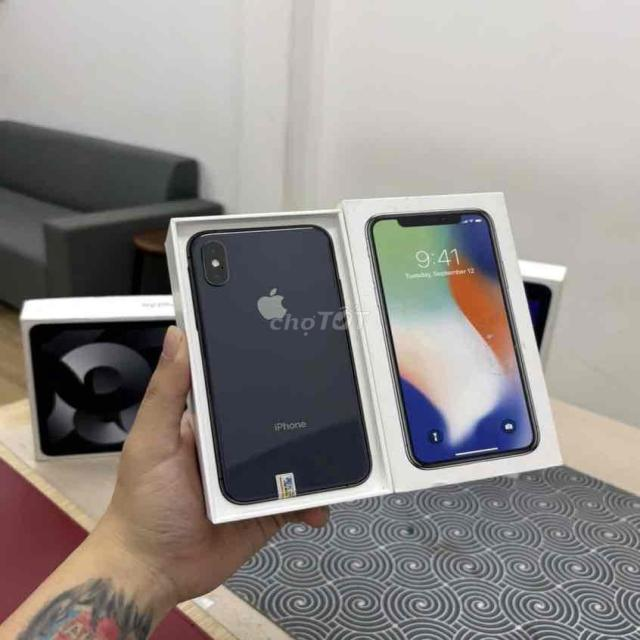gen_x_xs: (164, 208, 384, 519)
